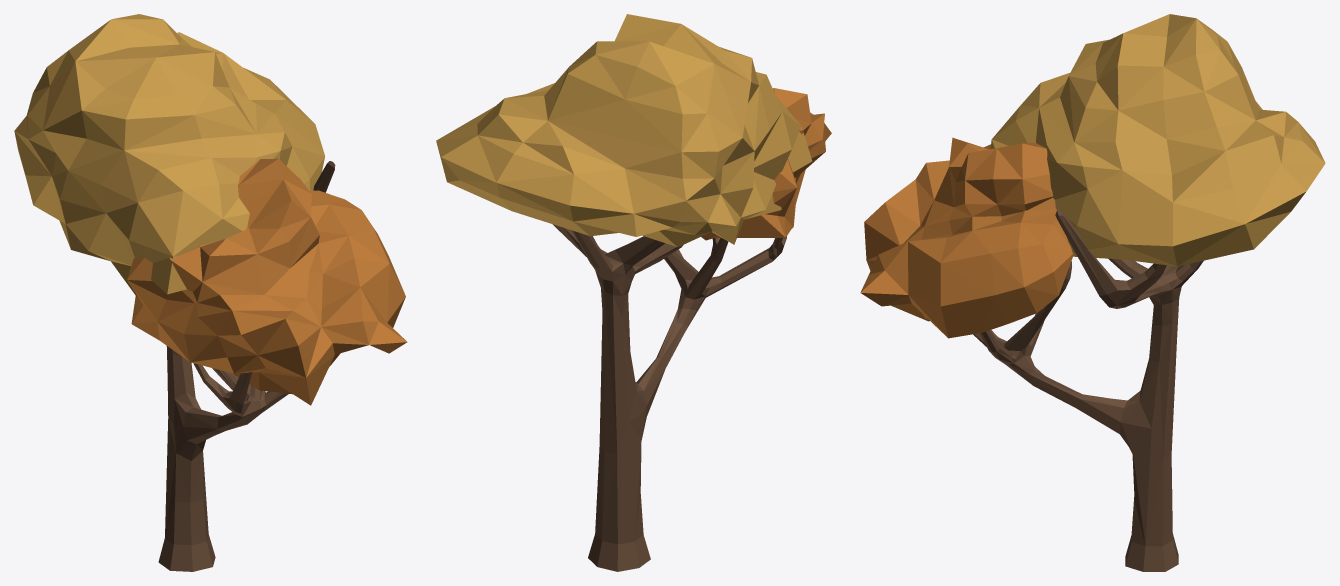
File: CommonTree_Autumn_2.glb
The picture shows the model from 3 angles, left to right: view 1: azimuth 30°, elevation 25°; view 2: azimuth 150°, elevation 25°; view 3: azimuth 270°, elevation 25°; orthographic projection. The views are drawn at different scales.
Parts seen in each view (by area): view 1: CommonTree_Autumn_2; view 2: CommonTree_Autumn_2; view 3: CommonTree_Autumn_2.
Part boxes in pixels (box(x1,y1,x2,y2)): CommonTree_Autumn_2: box(14, 14, 407, 571); CommonTree_Autumn_2: box(436, 14, 831, 571); CommonTree_Autumn_2: box(860, 14, 1325, 571).
Bounding box in the file's own units: 1.66 × 3.12 × 2.54.
